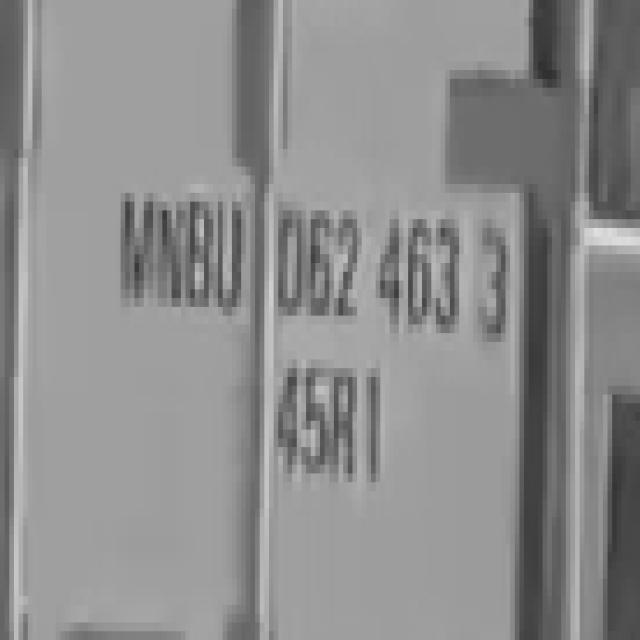dv: (473, 206, 514, 352)
owner: (109, 148, 246, 334)
serial: (274, 178, 460, 351)
size: (272, 352, 392, 512)
